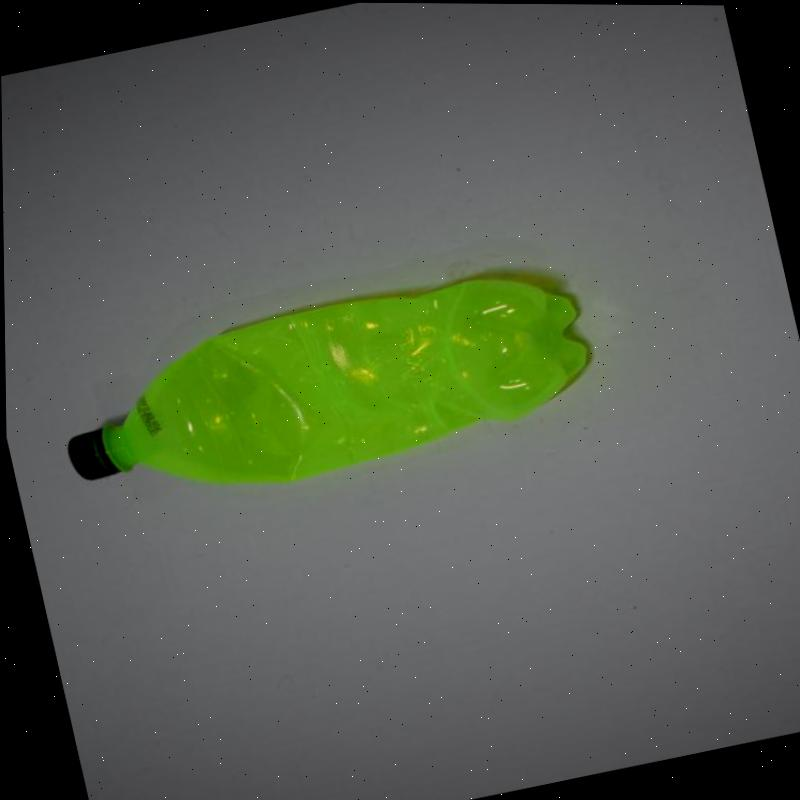botella: (44, 251, 605, 531)
